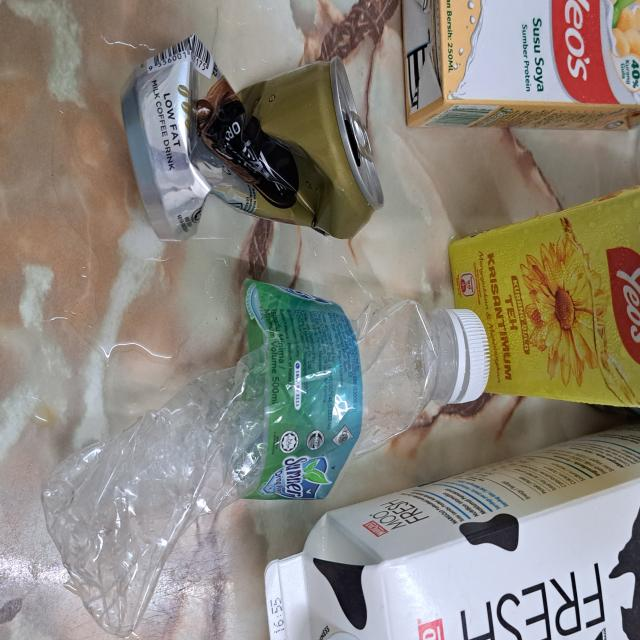can: (118, 32, 384, 242)
drink carton: (263, 426, 639, 640), (447, 187, 640, 407), (397, 0, 640, 131)
plastic bottle: (40, 277, 458, 636)
plastic bottle cap: (450, 306, 491, 404)
pop tab: (349, 110, 374, 162)
